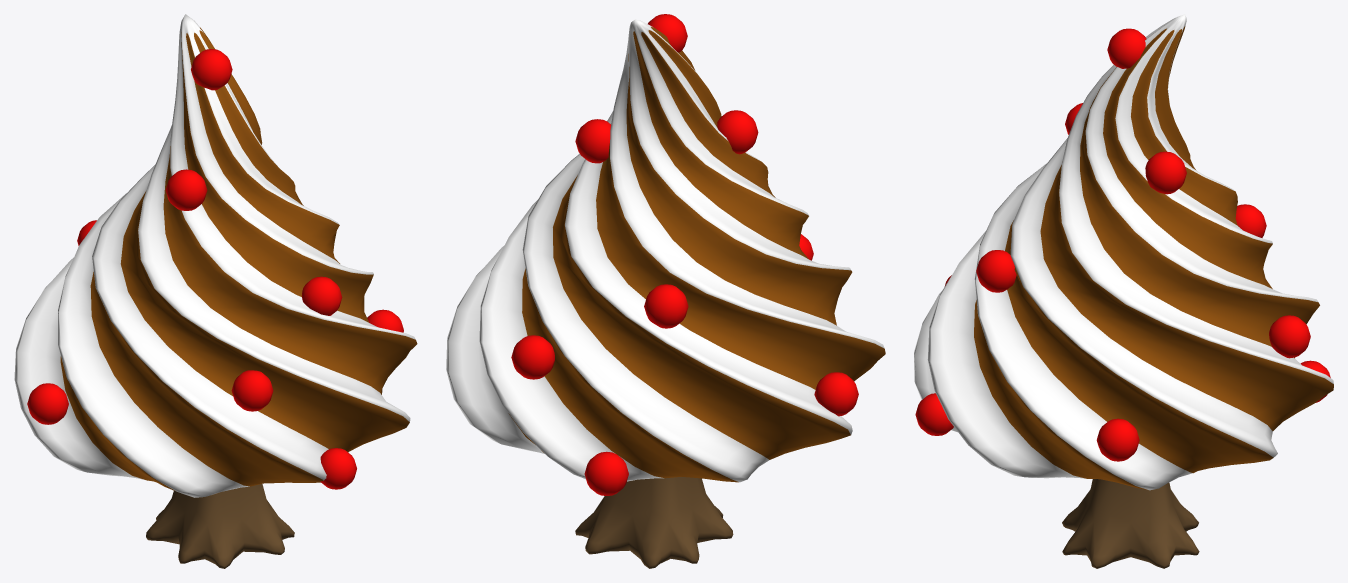
3 renders of one model, left to right at view 1: azimuth 30°, elevation 25°; view 2: azimuth 150°, elevation 25°; view 3: azimuth 270°, elevation 25°, orthographic. The views are drawn at different scales.
Parts seen in each view (by area): view 1: Cube.003; view 2: Cube.003; view 3: Cube.003.
Boxes of the visible parts, <box> form: Cube.003: <box>14,14,417,568</box>; Cube.003: <box>446,14,885,568</box>; Cube.003: <box>914,14,1333,568</box>.
Size of the model in its own units: 0.9594 by 1.27 by 0.9287.
